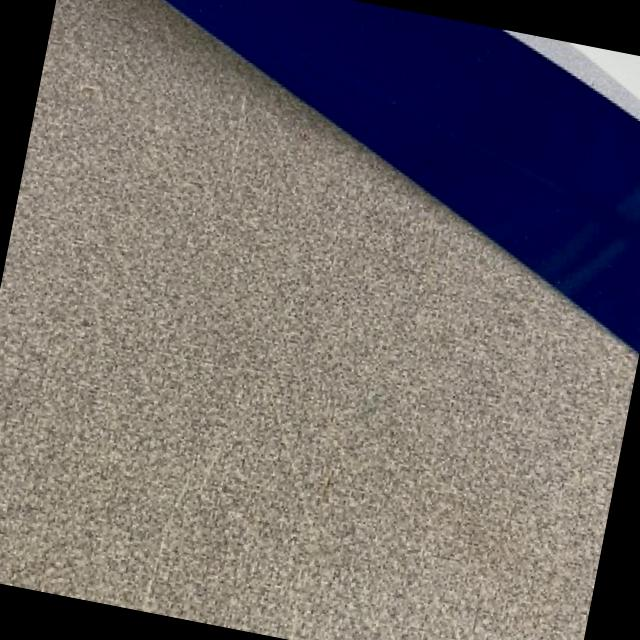healthy: (0, 0, 637, 640), (11, 0, 637, 398)
